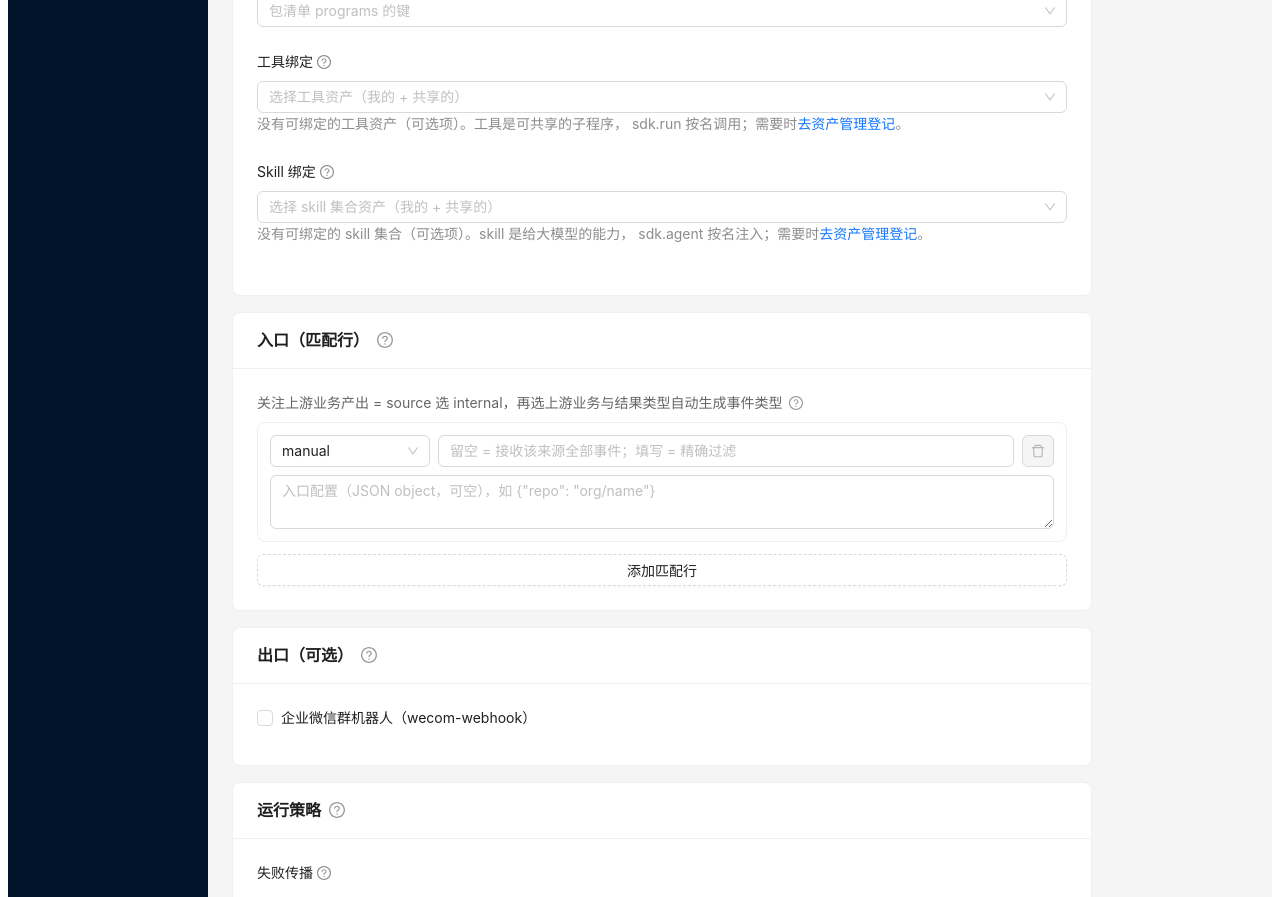
Test: 入口区：internal 引导 › source 选 internal → 上游业务 + 结果类型自动生成 event_type（可再手改）
(page scrolled)
What coordinates should you click on to do the following:
click the dropdown named "匹配行 1 来源"
I would click on:
 (306, 450)
Its box is [282,442,330,459].
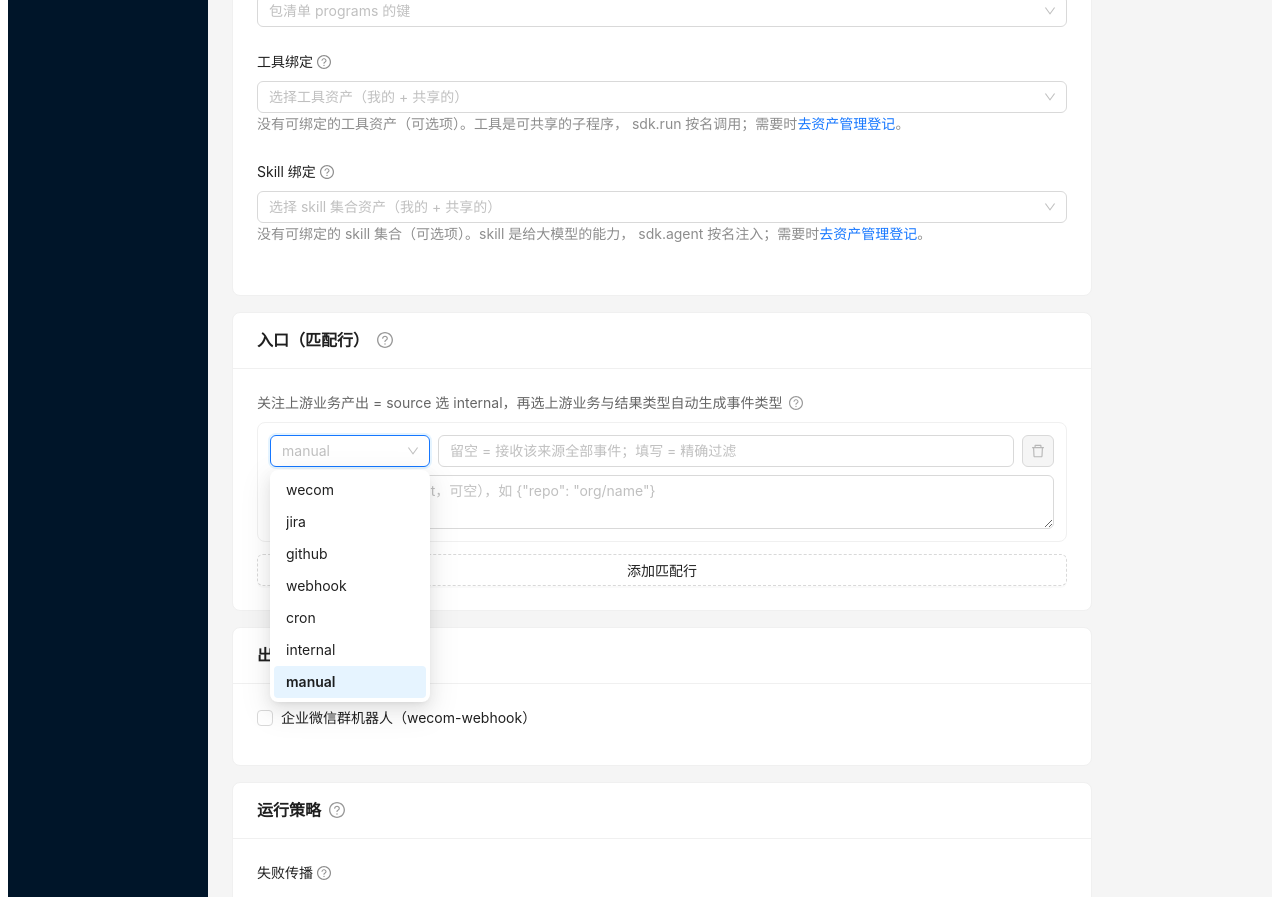
What coordinates should you click on to do the following:
click the text "internal"
I would click on:
 (311, 650)
Its box is [286,641,335,658].
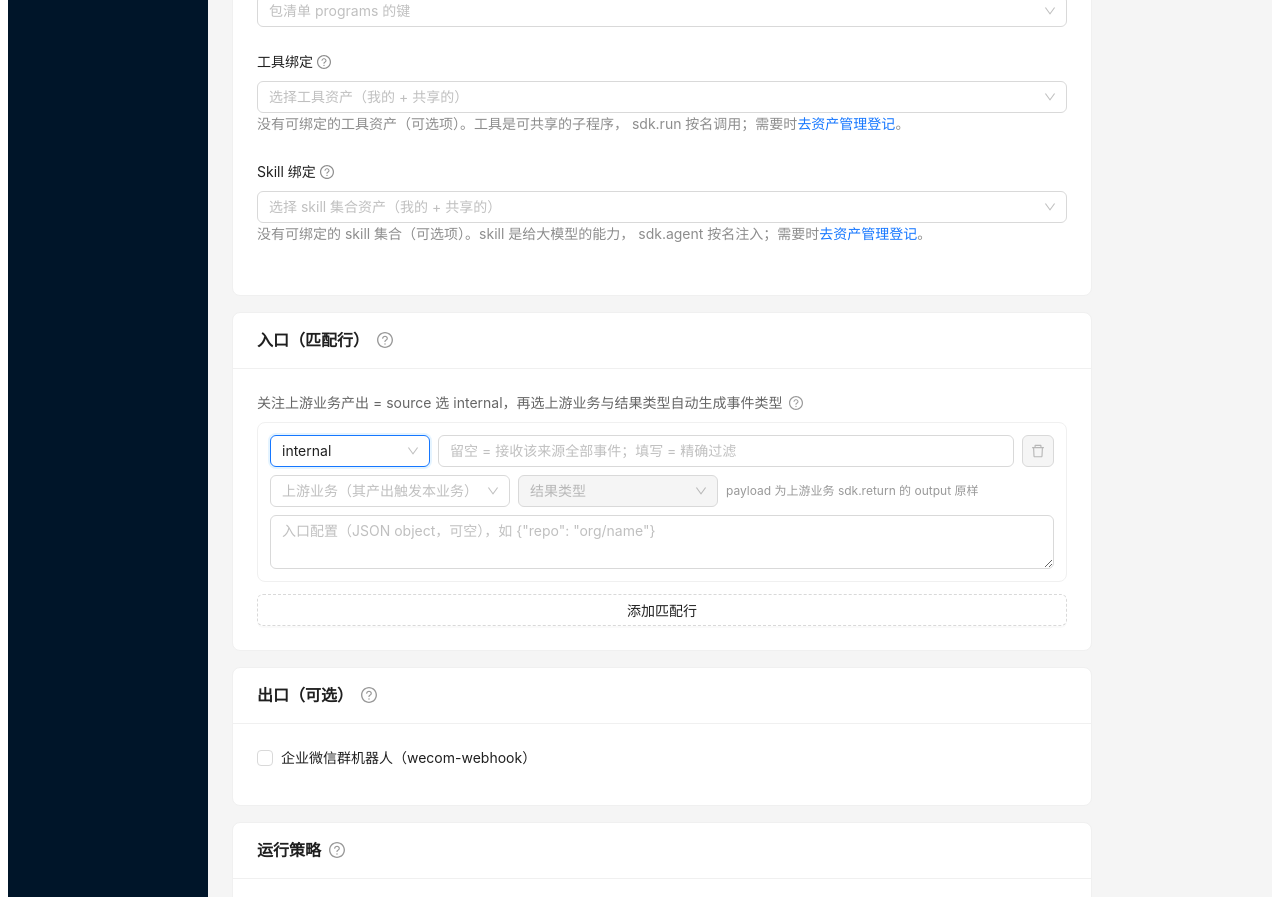
Check: the text "payload 为上游业务 sdk.return 的 output 原样" is shown, box [726,482,978,500]
What coordinates should you click on to do the following:
click the dropdown named "匹配行 1 上游业务"
I would click on:
 (380, 490)
Its box is [282,482,478,499].
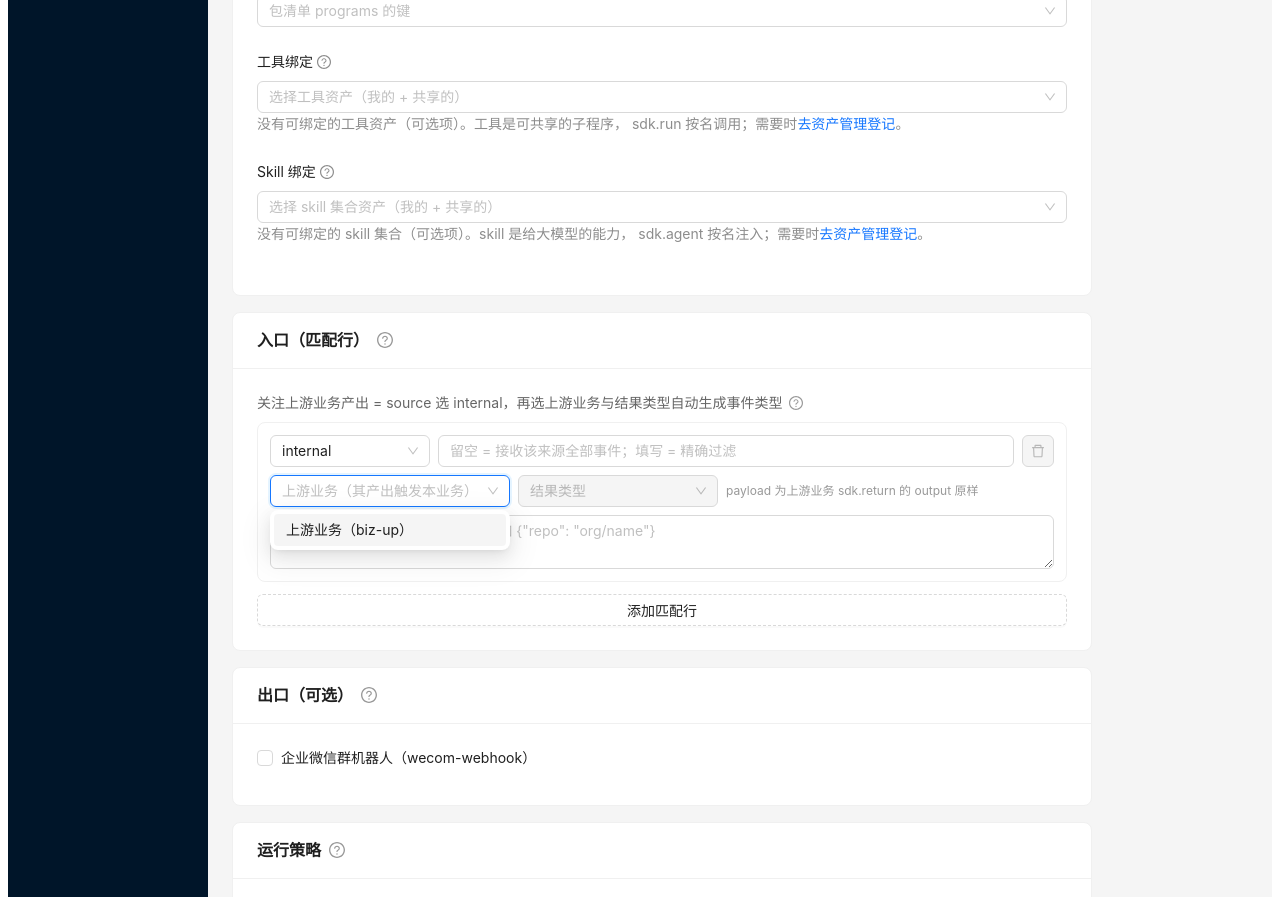
What coordinates should you click on to do the following:
click the text "上游业务（biz-up）"
I would click on:
 (350, 530)
Its box is [286,521,413,538].
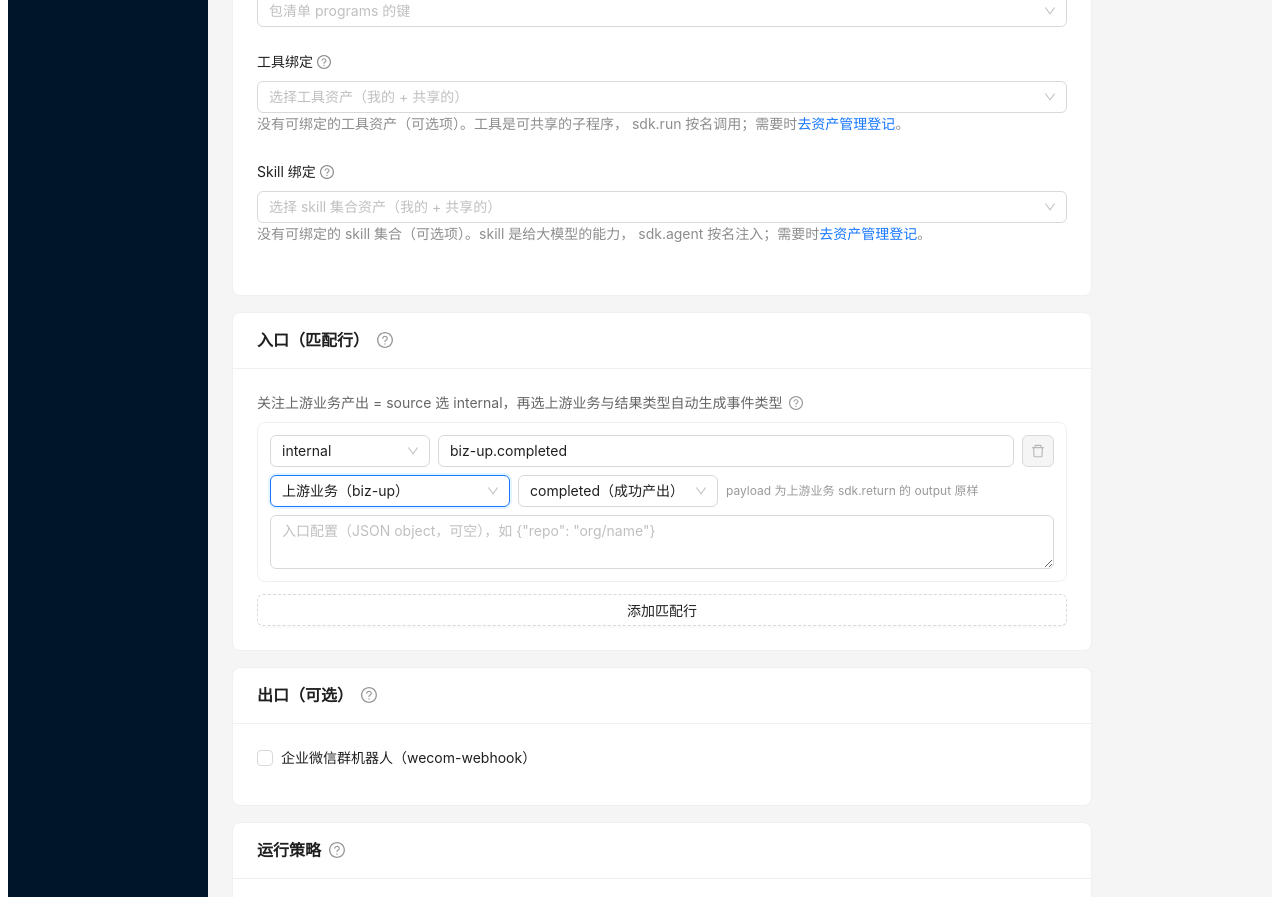
Check: the field named "匹配行 1 事件类型" holds "biz-up.completed", box [438,435,1014,467]
What coordinates should you click on to do the following:
click the dropdown named "匹配行 1 结果类型"
I would click on:
 (607, 490)
Its box is [530,482,684,499].
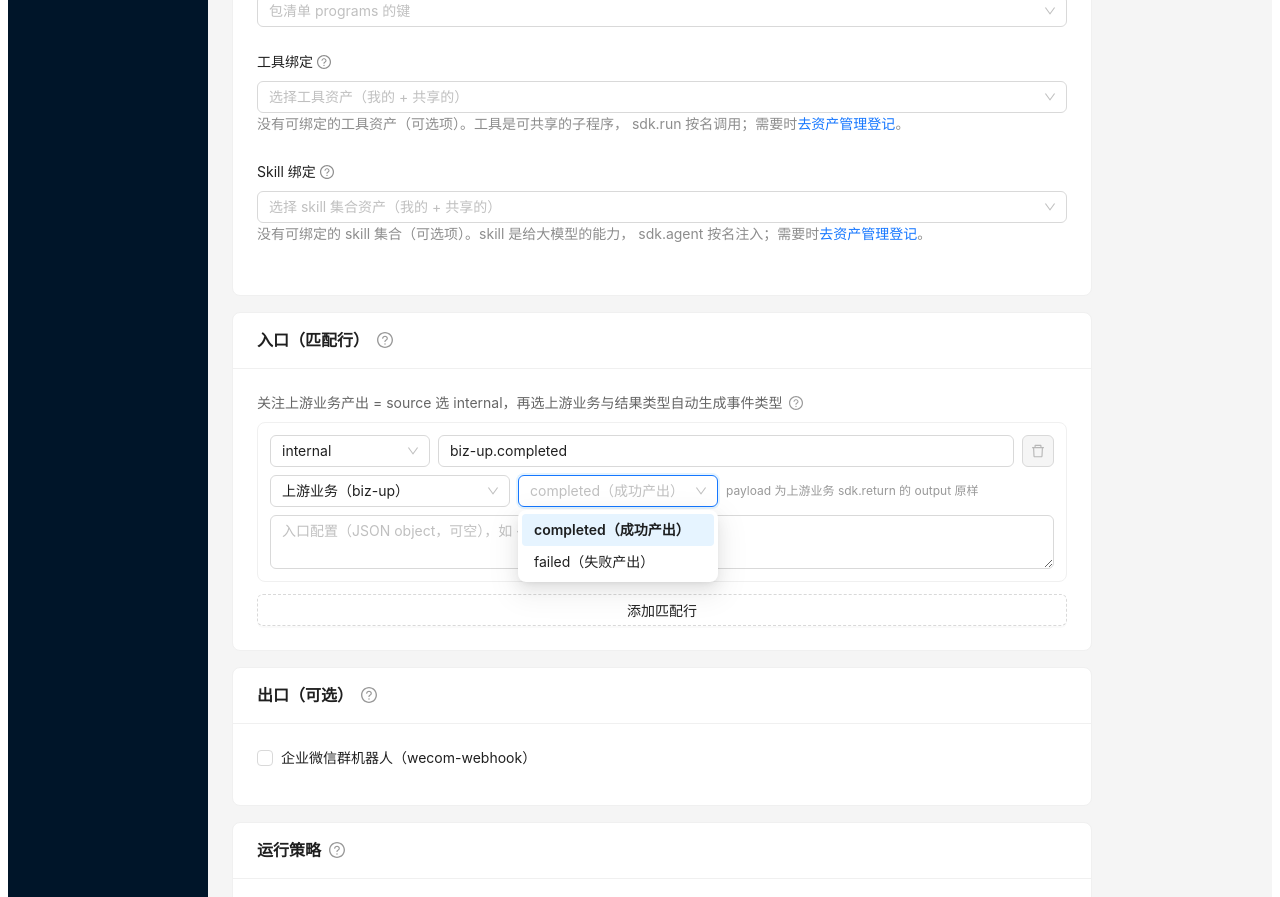
What coordinates should you click on to do the following:
click the text "failed（失败产出）"
I would click on:
 (594, 562)
Its box is [534,553,654,570].
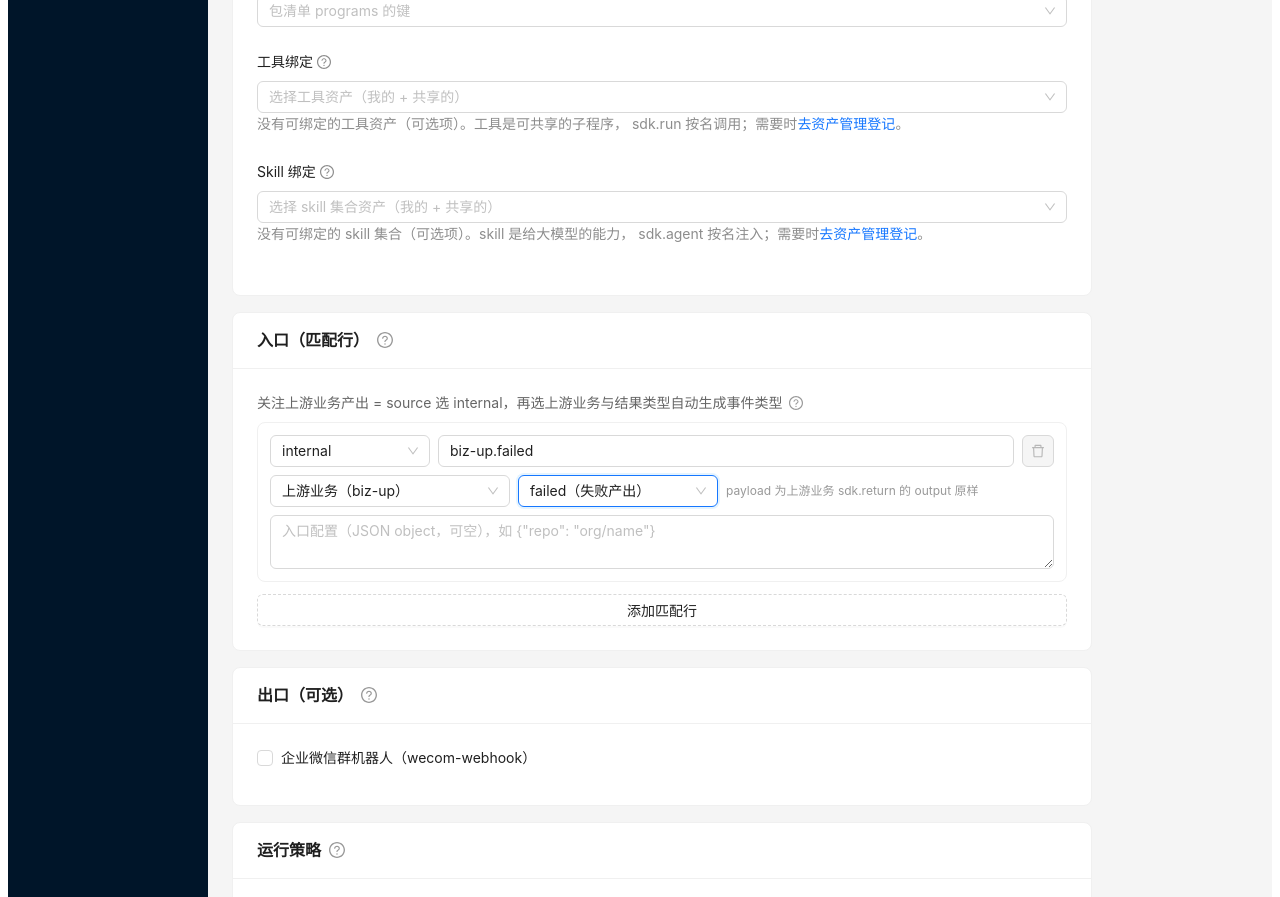
Check: the field named "匹配行 1 事件类型" holds "biz-up.failed", box [438,435,1014,467]
